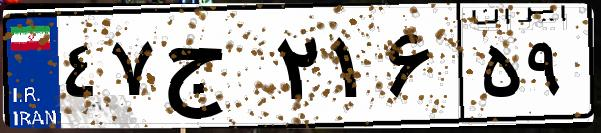1: (330, 28, 385, 110)
2: (270, 28, 330, 110)
4: (57, 26, 110, 100)
5: (475, 38, 525, 113)
6: (385, 28, 445, 110)
7: (110, 28, 158, 98)
9: (525, 38, 570, 115)
ج: (158, 20, 270, 120)
